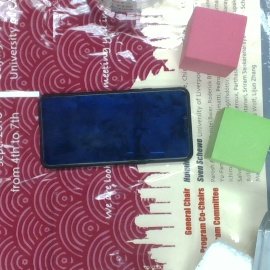phone: (39, 87, 194, 167)
